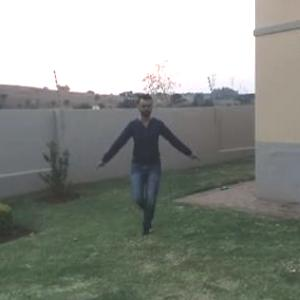land: (89, 82, 196, 243)
